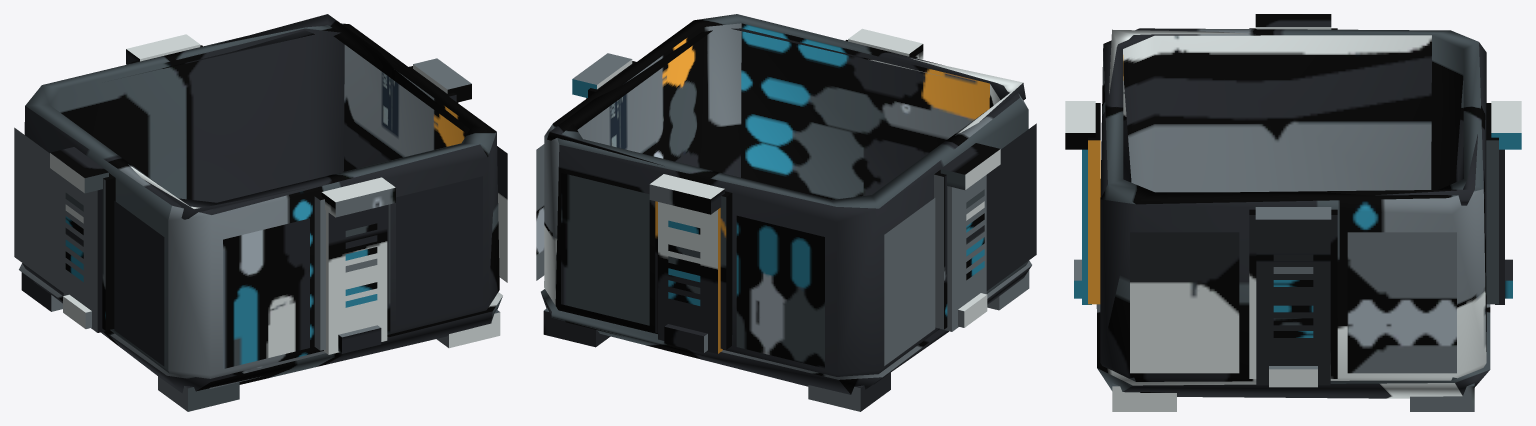
The model's file is S07_Body_LOD2.obj.
3 renders of one model, left to right at view 1: azimuth 30°, elevation 25°; view 2: azimuth 150°, elevation 25°; view 3: azimuth 270°, elevation 25°, orthographic. The views are drawn at different scales.
Parts seen in each view (by area): view 1: S07_Body_LOD2.001; view 2: S07_Body_LOD2.001; view 3: S07_Body_LOD2.001.
Boxes of the visible parts, x1,y1,x2,y2 form: S07_Body_LOD2.001: (14, 14, 507, 411); S07_Body_LOD2.001: (536, 14, 1036, 411); S07_Body_LOD2.001: (1065, 14, 1521, 411).
Bounding box in the file's own units: 1.28 × 0.634 × 1.2.
